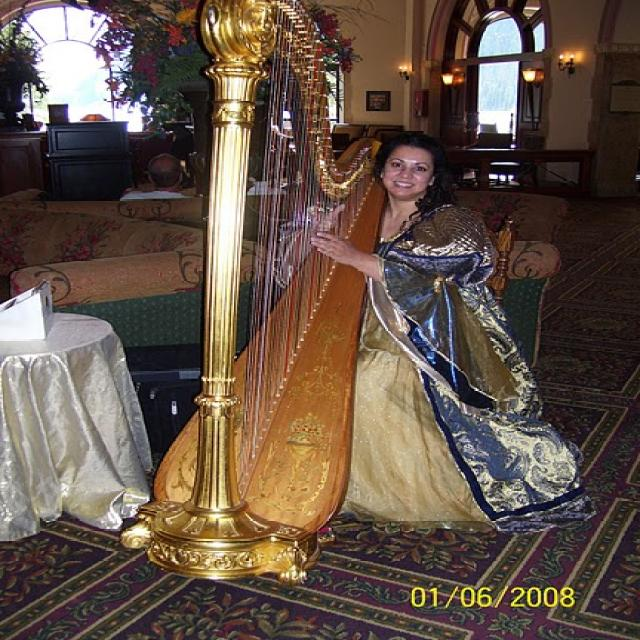harp: (120, 1, 390, 579)
